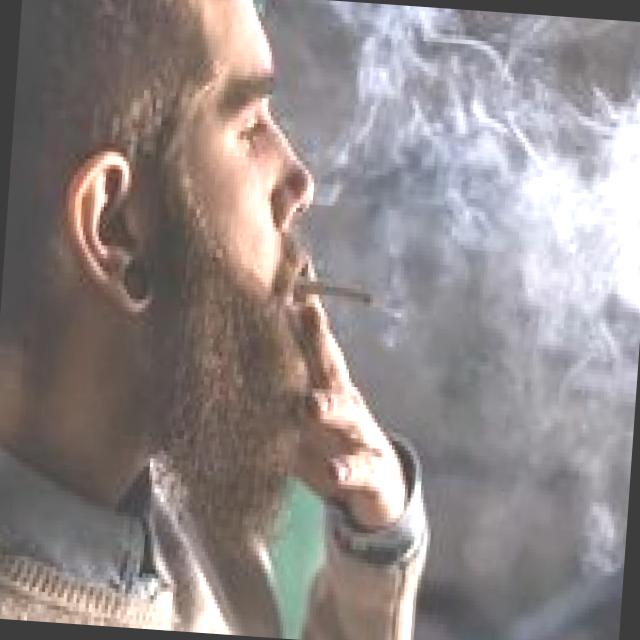smoke: (288, 258, 378, 320)
